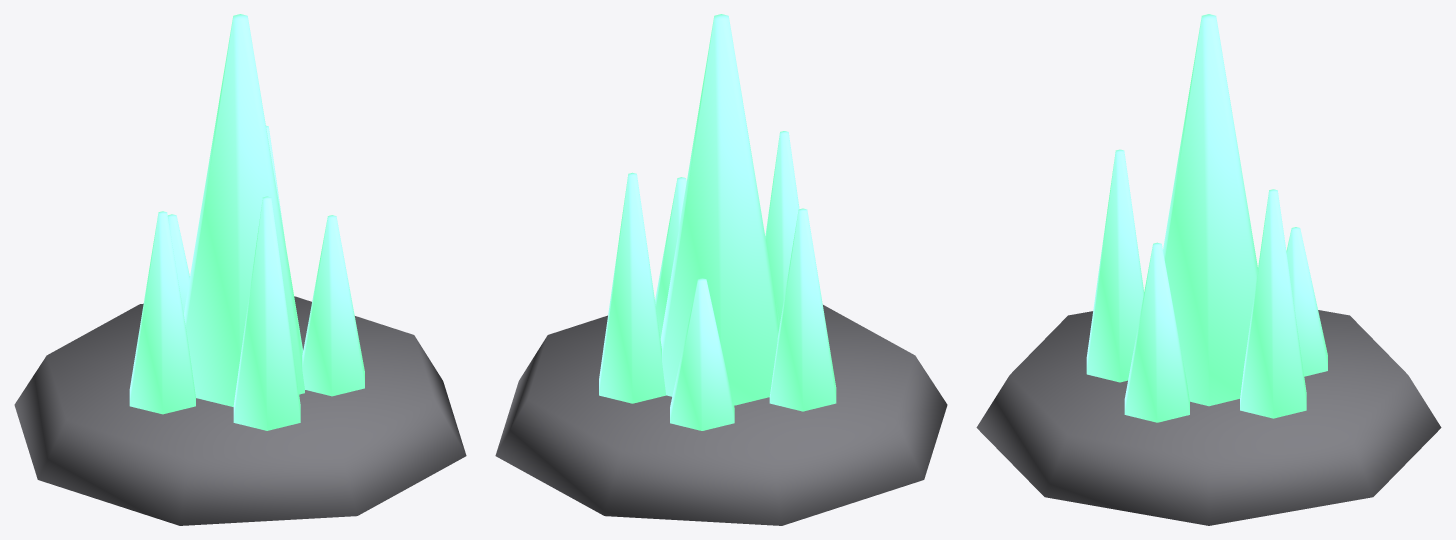
File: 0d44f723-637b-44e2-bdce-289bafff46ab.glb
3 views of the same model, side by side, from view 1: azimuth 30°, elevation 25°; view 2: azimuth 150°, elevation 25°; view 3: azimuth 270°, elevation 25° (orthographic).
Visible parts, largest first — view 1: Generated3DMesh; view 2: Generated3DMesh; view 3: Generated3DMesh.
Boxes of the visible parts, bbox=[...] form: Generated3DMesh: bbox=[14, 14, 466, 525]; Generated3DMesh: bbox=[495, 14, 947, 525]; Generated3DMesh: bbox=[976, 14, 1441, 525].
Size of the model in its own units: 2.8 by 2.73 by 2.8.
